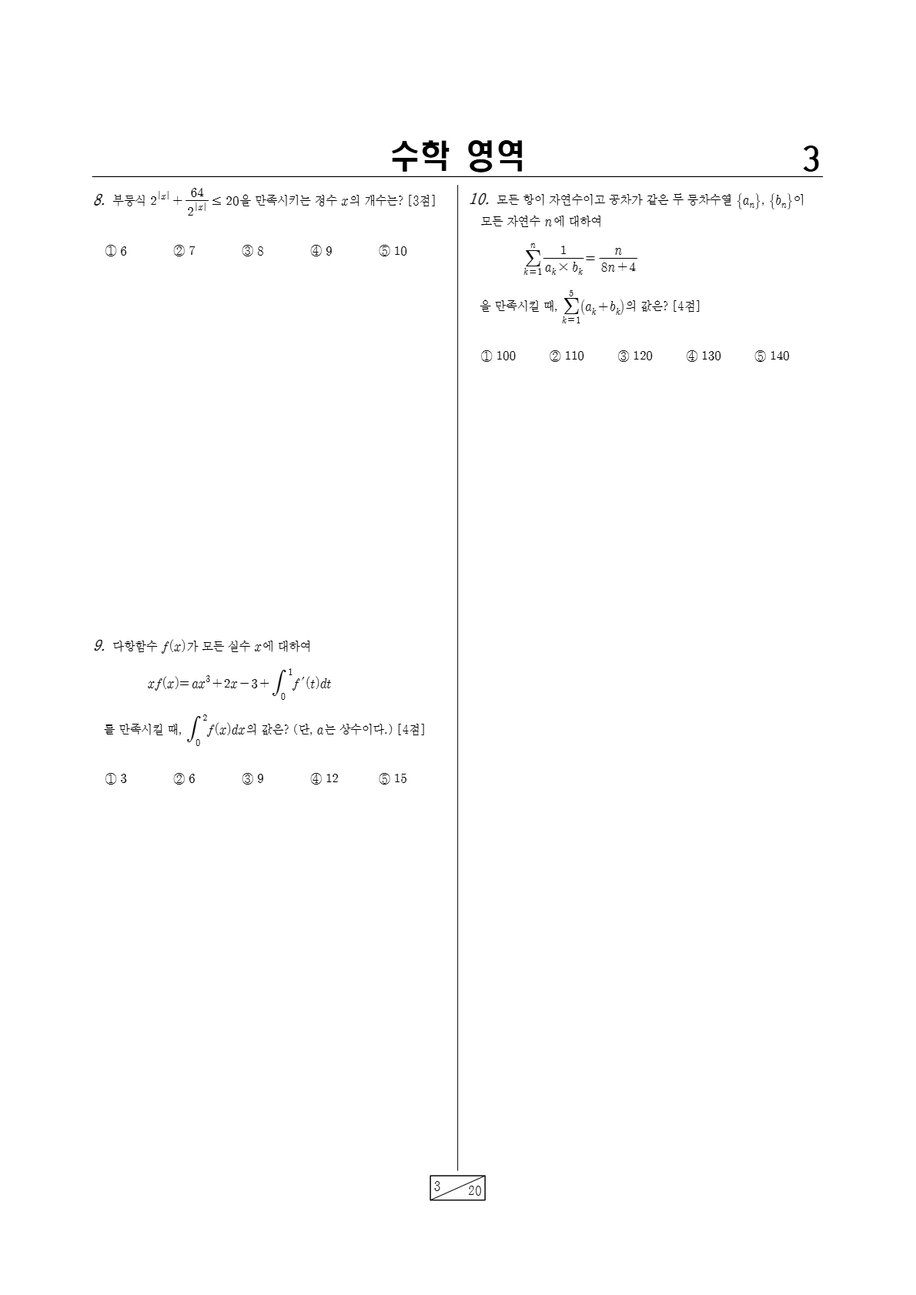opt_1: (480, 348, 492, 363), (105, 243, 116, 257), (105, 771, 116, 785)
opt_2: (172, 771, 185, 785), (548, 348, 560, 363), (173, 243, 184, 257)
opt_3: (241, 243, 253, 257), (617, 348, 629, 362), (242, 771, 253, 785)
opt_4: (309, 242, 322, 257), (309, 771, 322, 785), (686, 348, 697, 363)
opt_5: (374, 242, 391, 258), (378, 771, 390, 785), (754, 348, 766, 362)
